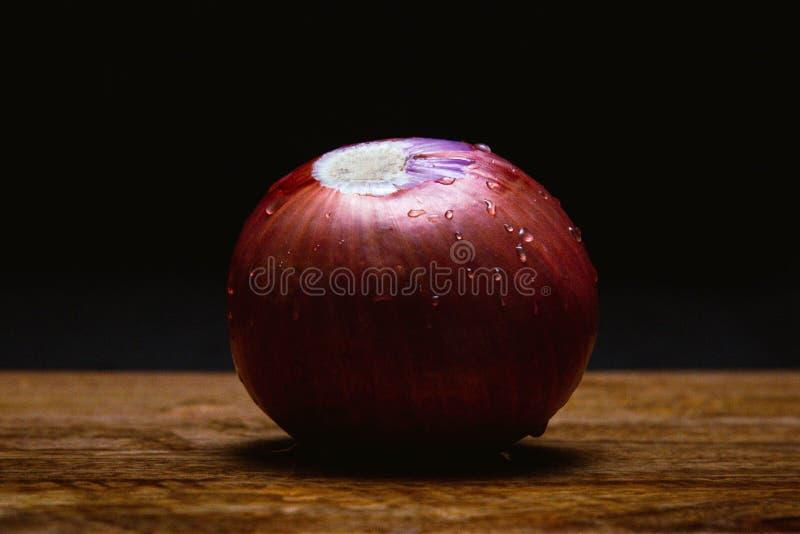Onion: (227, 138, 597, 444)
